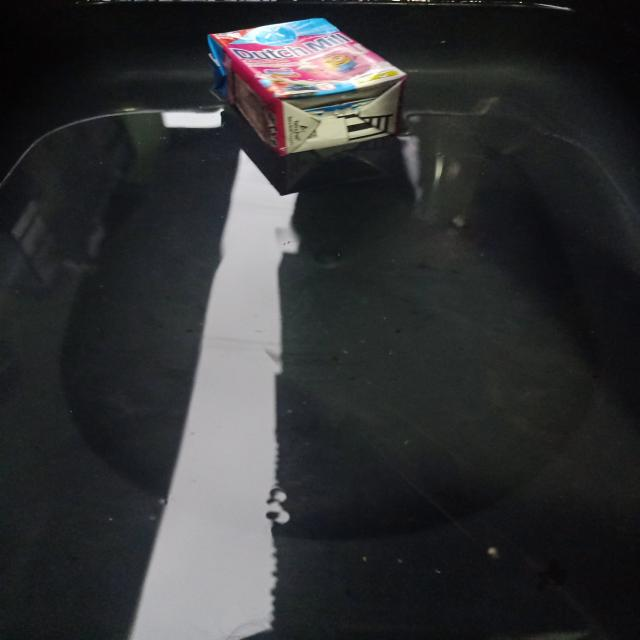Cardboard Box: (209, 19, 406, 156)
